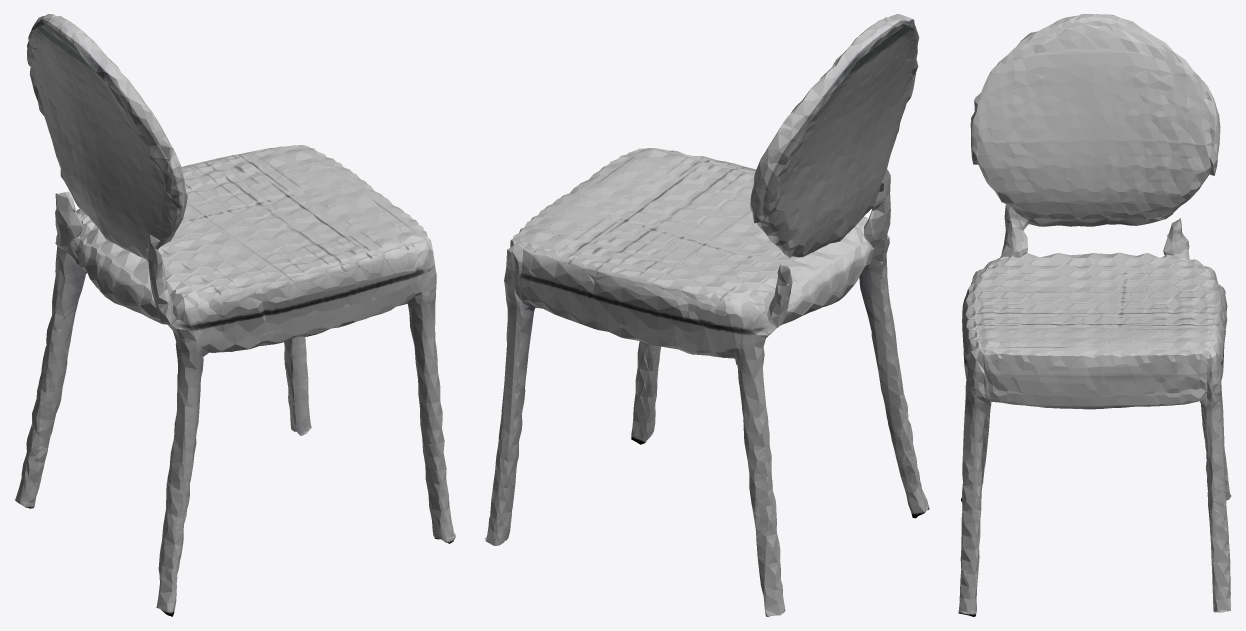
Rendered from elem_94_131_206_213_9_2.obj.
3 views of the same model, side by side, from view 1: azimuth 30°, elevation 25°; view 2: azimuth 150°, elevation 25°; view 3: azimuth 270°, elevation 25° (orthographic). The views are drawn at different scales.
Bounding box in the file's own units: 0.4425 × 0.7087 × 0.3692.
Materials: 1 (1 with a texture image).
